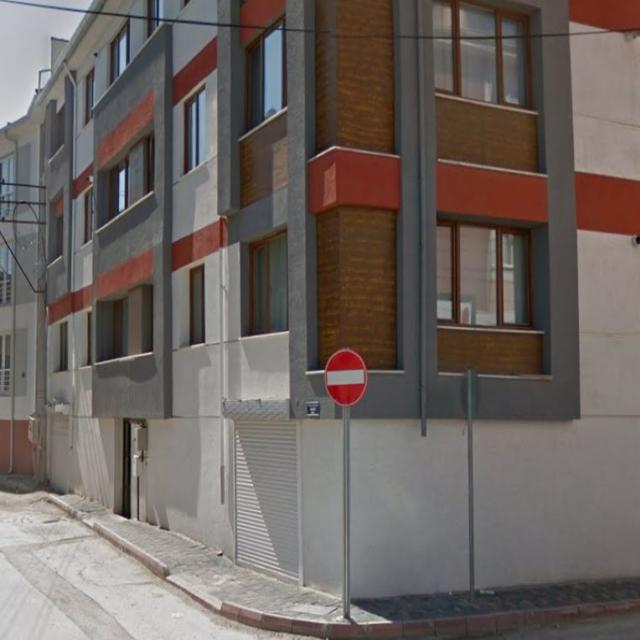girisyok: (325, 348, 368, 406)
